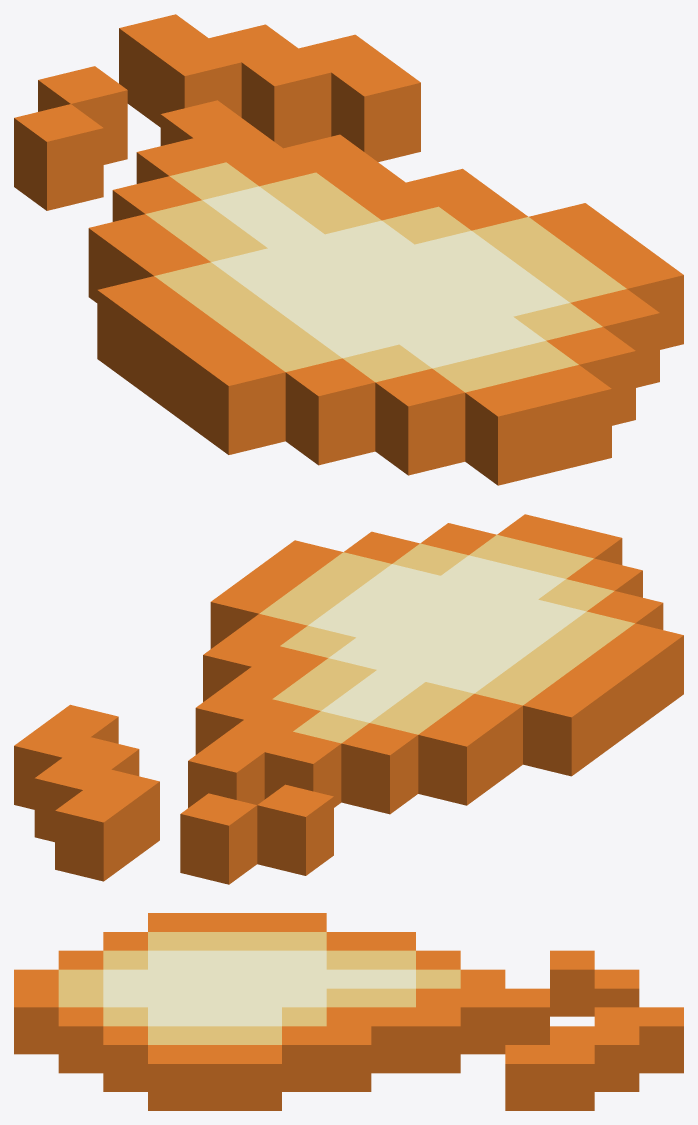
The model's file is fireball.fbx.
The picture shows the model from 3 angles, top to bottom: view 1: azimuth 30°, elevation 25°; view 2: azimuth 150°, elevation 25°; view 3: azimuth 270°, elevation 25°; orthographic projection. The views are drawn at different scales.
Visible parts, largest first — view 1: IdleLoop-Sheet.png; view 2: IdleLoop-Sheet.png; view 3: IdleLoop-Sheet.png.
Part boxes in pixels (x1,y1,x2,y2): IdleLoop-Sheet.png: (14, 14, 683, 485); IdleLoop-Sheet.png: (14, 514, 683, 884); IdleLoop-Sheet.png: (14, 913, 683, 1110).
Size of the model in its own units: 800 by 116 by 1500.
